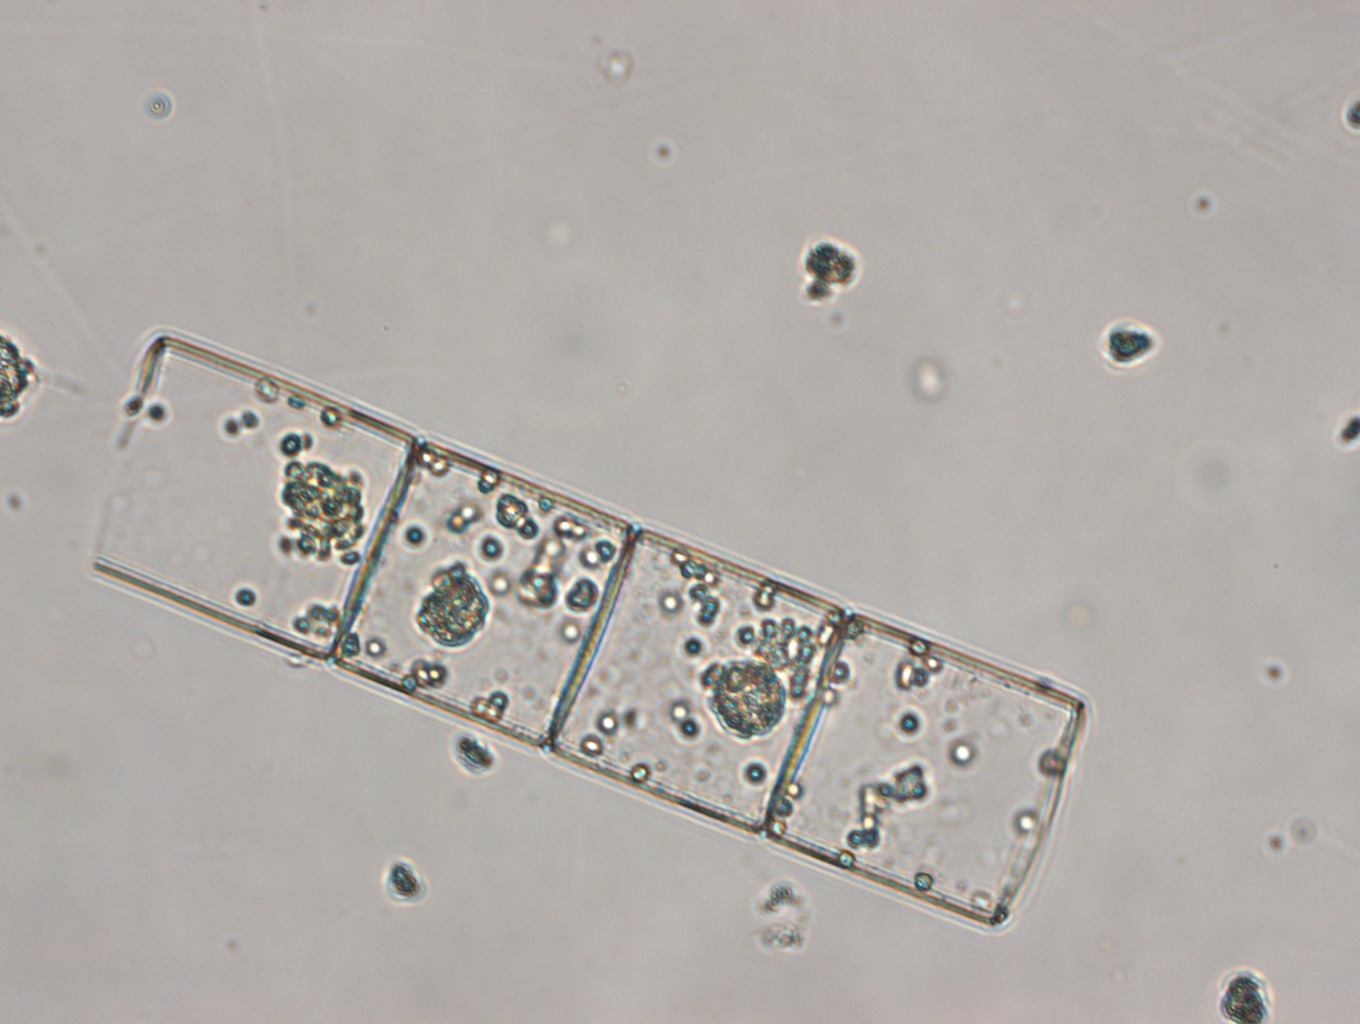guinardia flaccida: (77, 329, 1101, 936)
